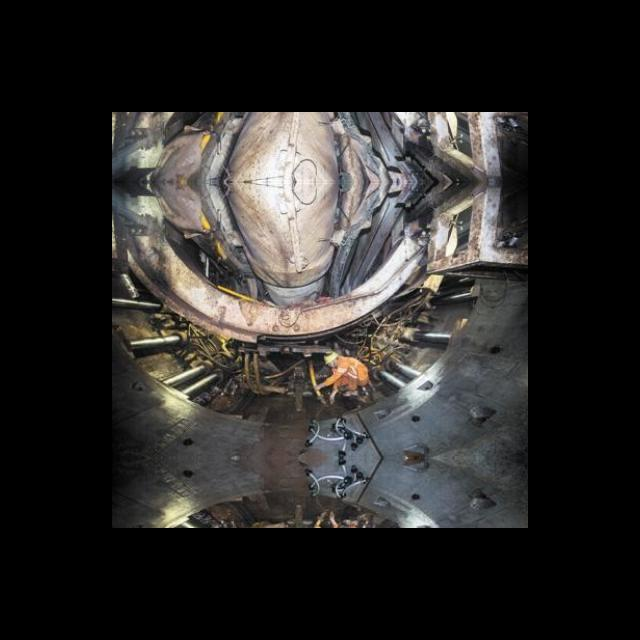Hardhat: (323, 351, 339, 365)
NO-Mask: (331, 363, 337, 370)
NO-Safety Vest: (335, 358, 362, 379)
Person: (313, 350, 369, 405)
